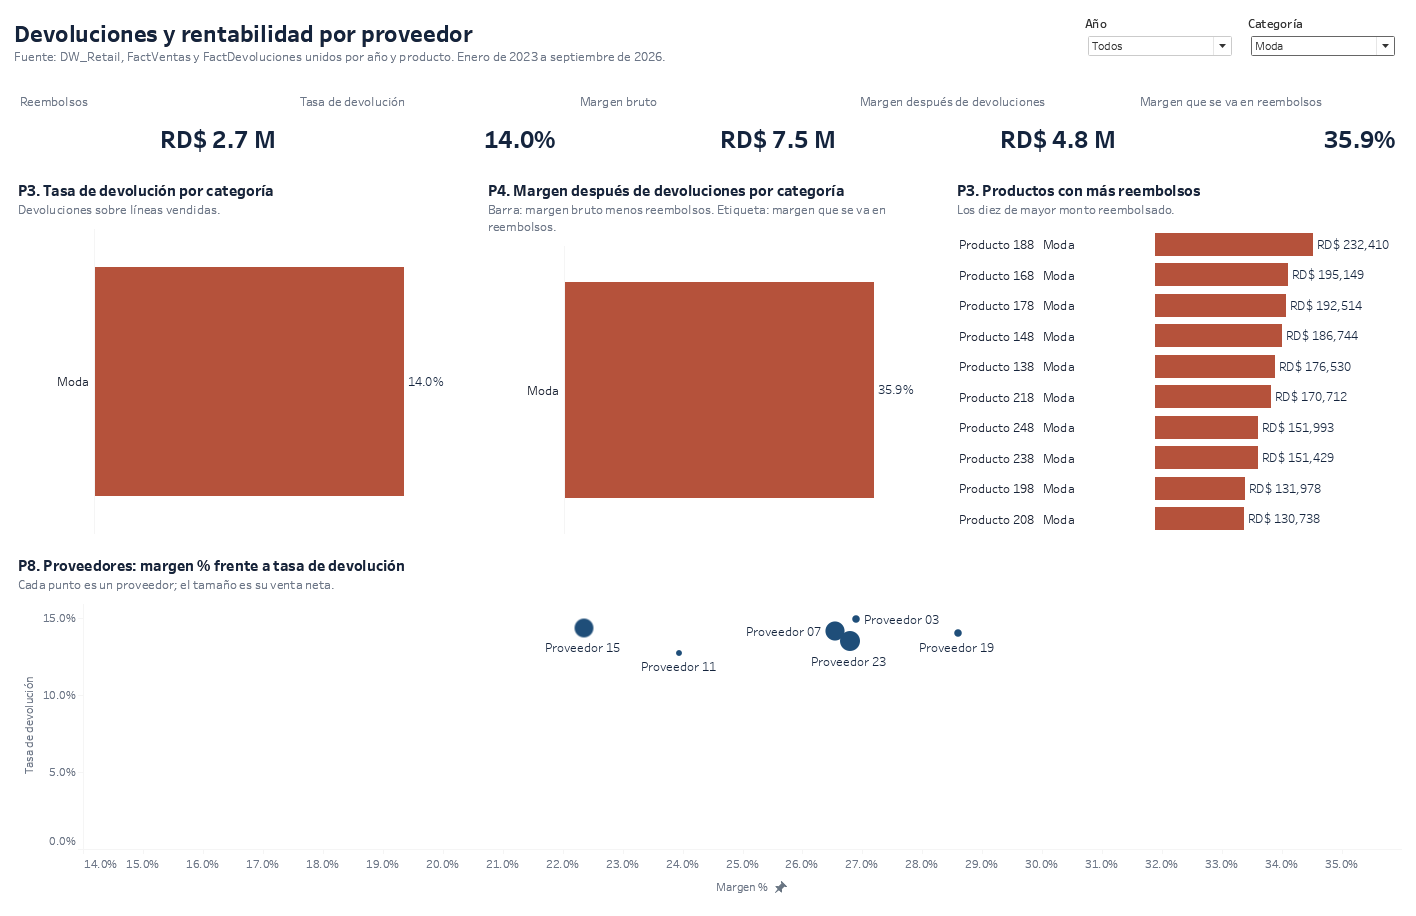

This screenshot's page, from the dashboard's own definition file:
{"tool":"tableau","page":{"name":"Devoluciones y proveedores","canvas":[1400,900],"ordinal":1},"visuals":[{"type":"text","box":[11.2,5.4,840,66.6]},{"type":"parameter","param":"[Parameters].[p_anio]","box":[1066.8,8.1,155.4,61.2]},{"type":"parameter","param":"[Parameters].[p_categoria]","box":[1227.8,8.1,155.4,61.2]},{"type":"worksheet","title":"D KPI reembolso","mark":"Text","box":[11.2,77.4,275.5,82.8]},{"type":"worksheet","title":"D KPI tasa","mark":"Text","box":[286.7,77.4,275.5,82.8]},{"type":"worksheet","title":"D KPI margen","mark":"Text","box":[562.2,77.4,275.5,82.8]},{"type":"worksheet","title":"D KPI neto","mark":"Text","box":[837.8,77.4,275.5,82.8]},{"type":"worksheet","title":"D KPI perdida","mark":"Text","box":[1113.3,77.4,275.5,82.8]},{"type":"worksheet","title":"Tasa devolucion","mark":"Bar","rows":["Categoria"],"cols":["TasaDev"],"box":[11.2,165.6,453.6,365.4]},{"type":"worksheet","title":"Margen neto","mark":"Bar","rows":["Categoria"],"cols":["MargenNeto"],"box":[473.2,165.6,453.6,365.4]},{"type":"worksheet","title":"Productos","mark":"Bar","rows":["NombreProducto","Categoria"],"cols":["MontoReembolso"],"box":[935.2,165.6,453.6,365.4]},{"type":"worksheet","title":"Proveedores","mark":"Circle","rows":["TasaDev"],"cols":["MargenPct"],"box":[11.2,536.4,1377.6,358.2]}]}

Visuals, with their boxes in screenshot pixels (x1, y1, x2, y2), scaled from the page's 1400x900 canvas onto the 1416x916 screenshot:
text: 11,5,861,73
parameter: 1079,8,1236,71
parameter: 1242,8,1399,71
"D KPI reembolso" worksheet (Text marks): 11,79,290,163
"D KPI tasa" worksheet (Text marks): 290,79,569,163
"D KPI margen" worksheet (Text marks): 569,79,847,163
"D KPI neto" worksheet (Text marks): 847,79,1126,163
"D KPI perdida" worksheet (Text marks): 1126,79,1405,163
"Tasa devolucion" worksheet (Bar marks): 11,169,470,540
"Margen neto" worksheet (Bar marks): 479,169,937,540
"Productos" worksheet (Bar marks): 946,169,1405,540
"Proveedores" worksheet (Circle marks): 11,546,1405,911
